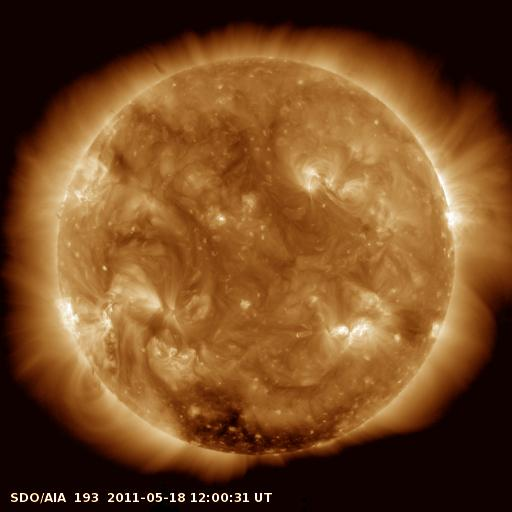coronal_hole: (165, 381, 348, 460)
